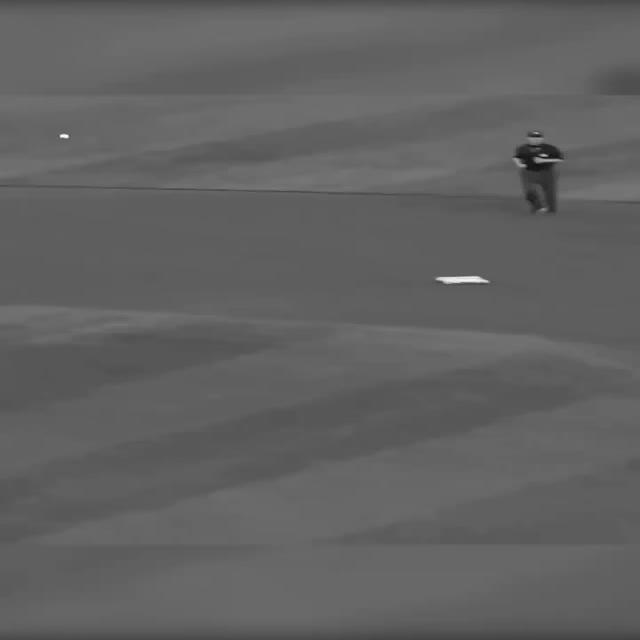base: (436, 276, 489, 285)
baseball: (58, 134, 69, 139)
